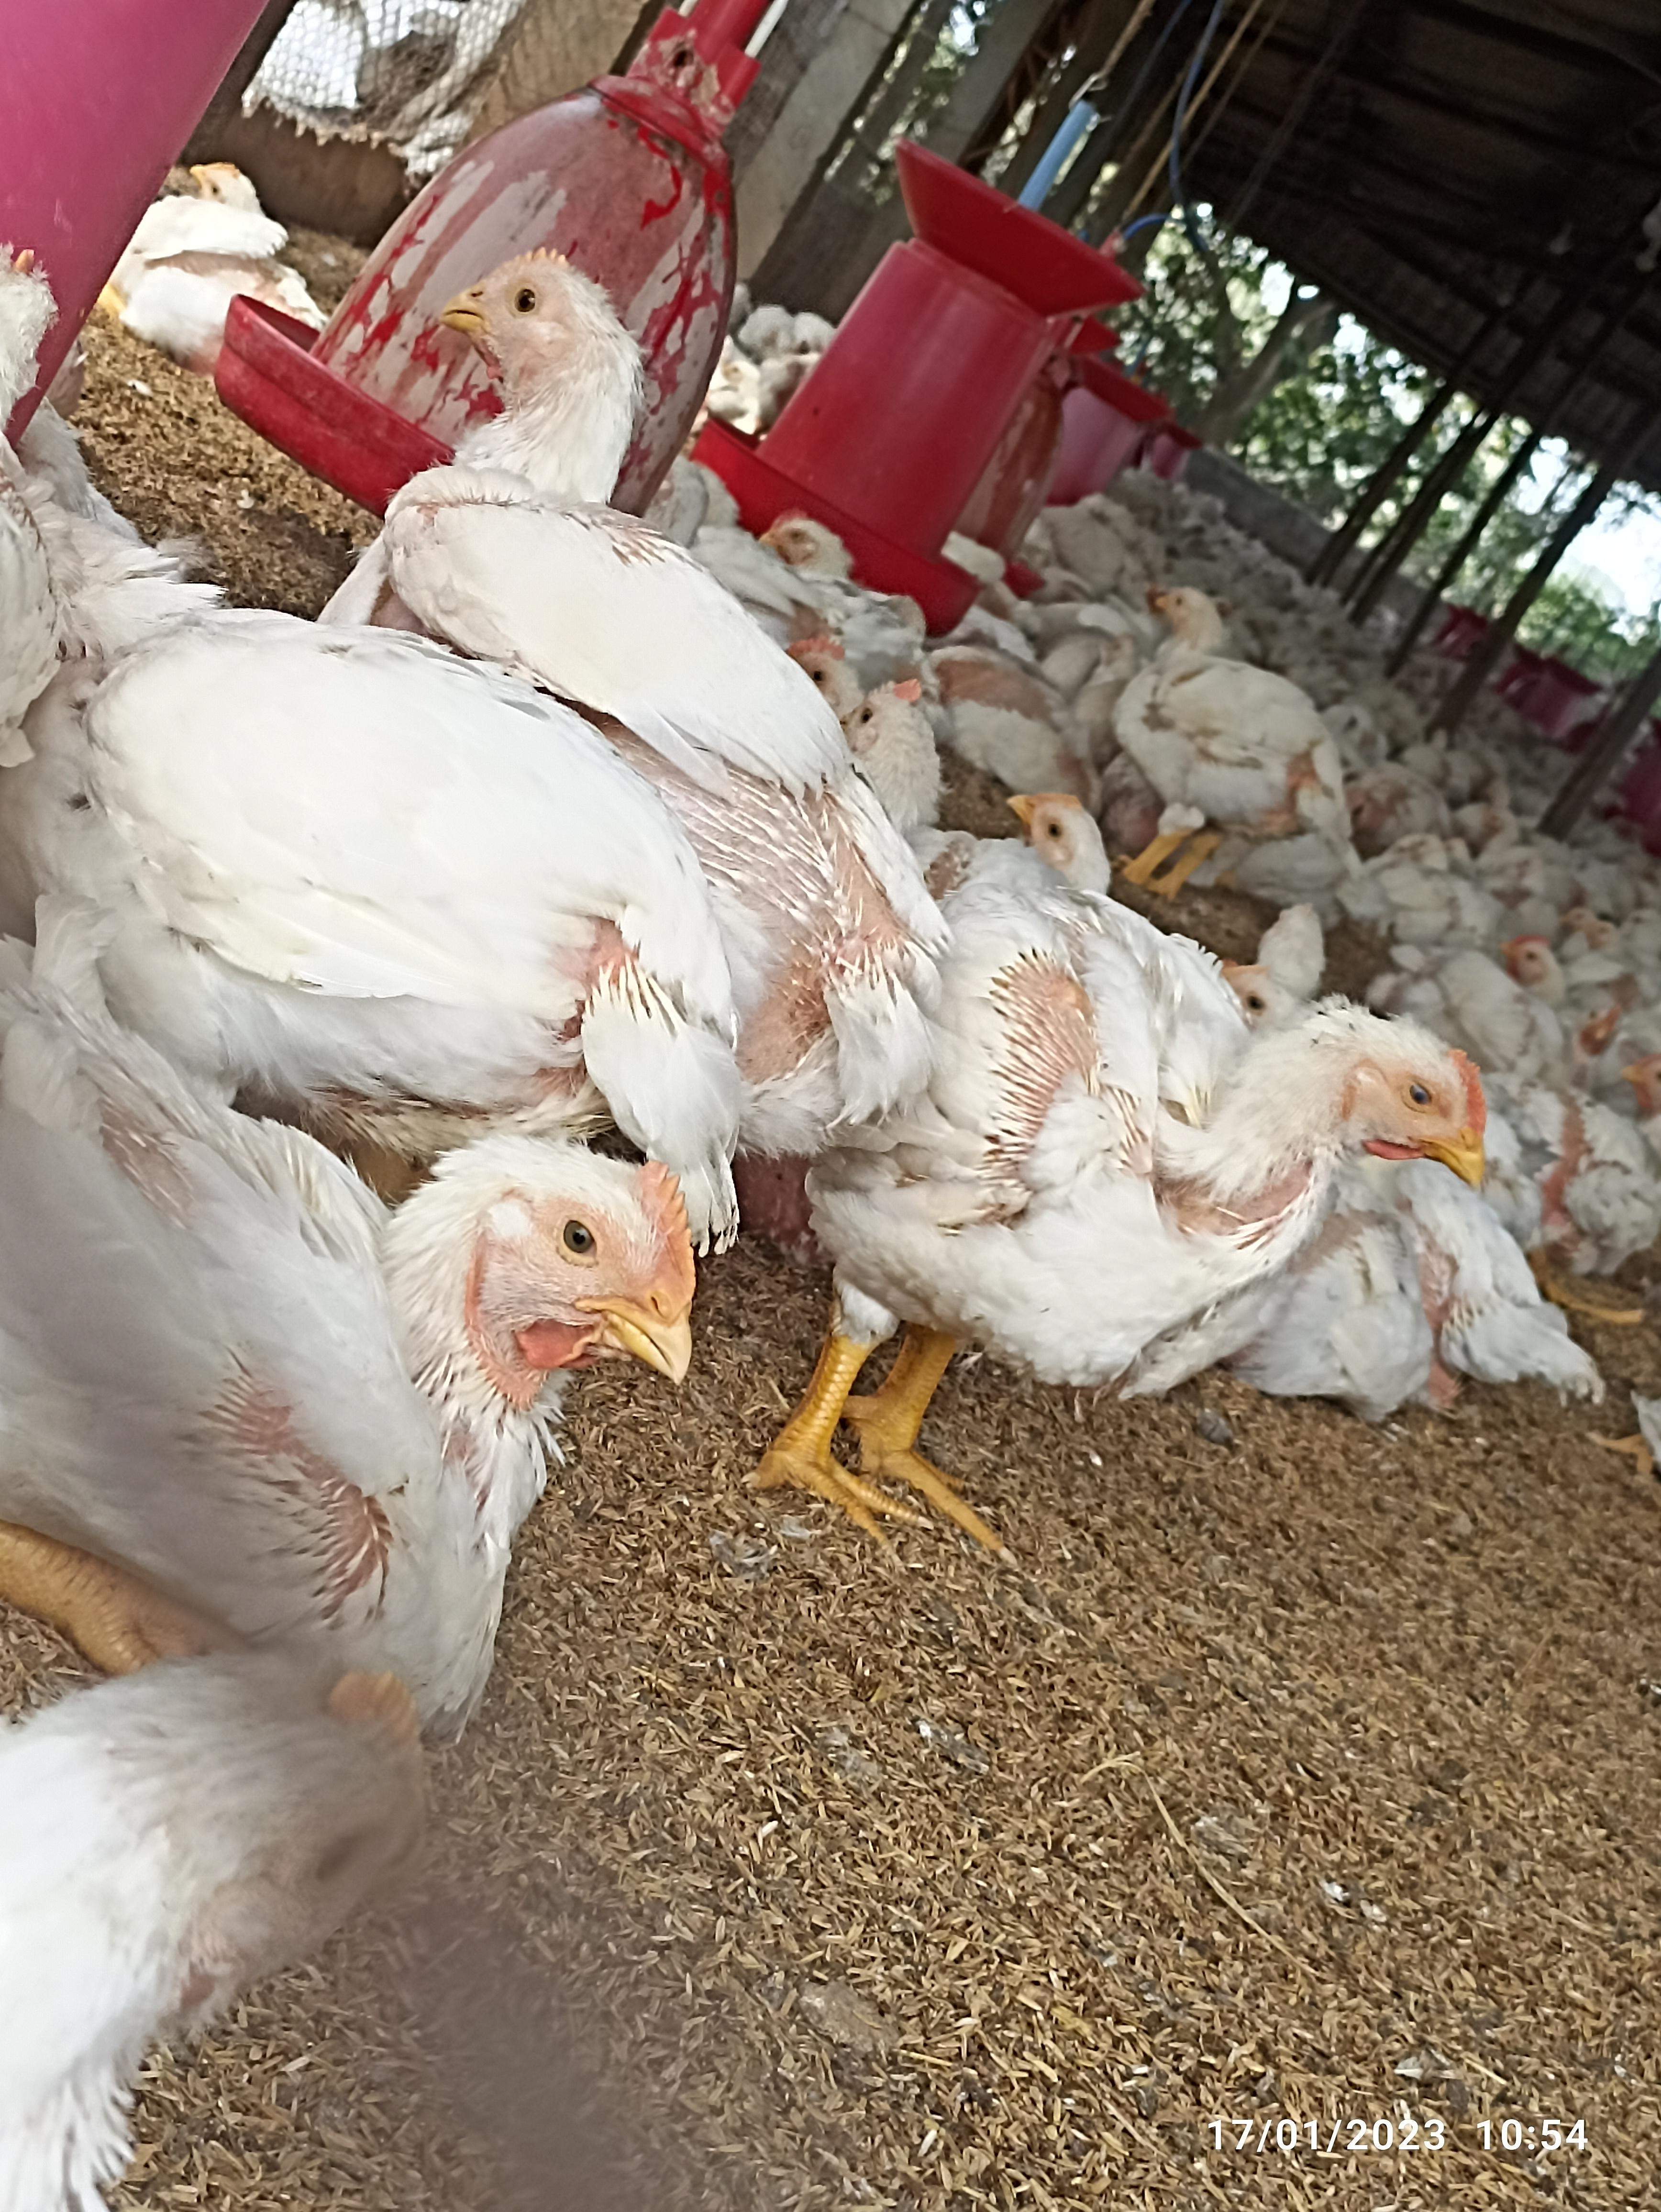Pollos: (0, 1120, 691, 1558), (377, 242, 808, 776), (811, 991, 1495, 1301), (1108, 574, 1342, 836)
